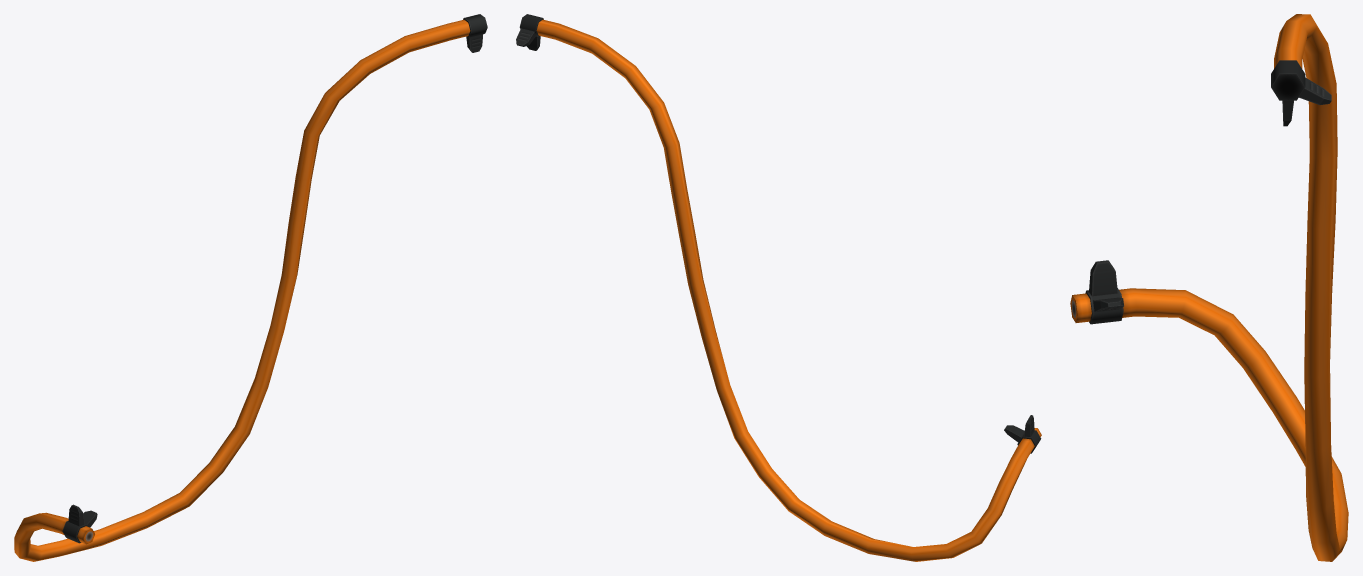
The model's file is jsf_GasRange_01b.fbx.
3 views of the same model, side by side, from view 1: azimuth 30°, elevation 25°; view 2: azimuth 150°, elevation 25°; view 3: azimuth 270°, elevation 25° (orthographic). The views are drawn at different scales.
Parts seen in each view (by area): view 1: GasHose; view 2: GasHose; view 3: GasHose.
Part boxes in pixels (x1,y1,x2,y2): GasHose: [14, 14, 487, 561]; GasHose: [516, 14, 1041, 561]; GasHose: [1070, 14, 1348, 561].
Bounding box in the file's own units: 57.98 × 51.9 × 17.3.
